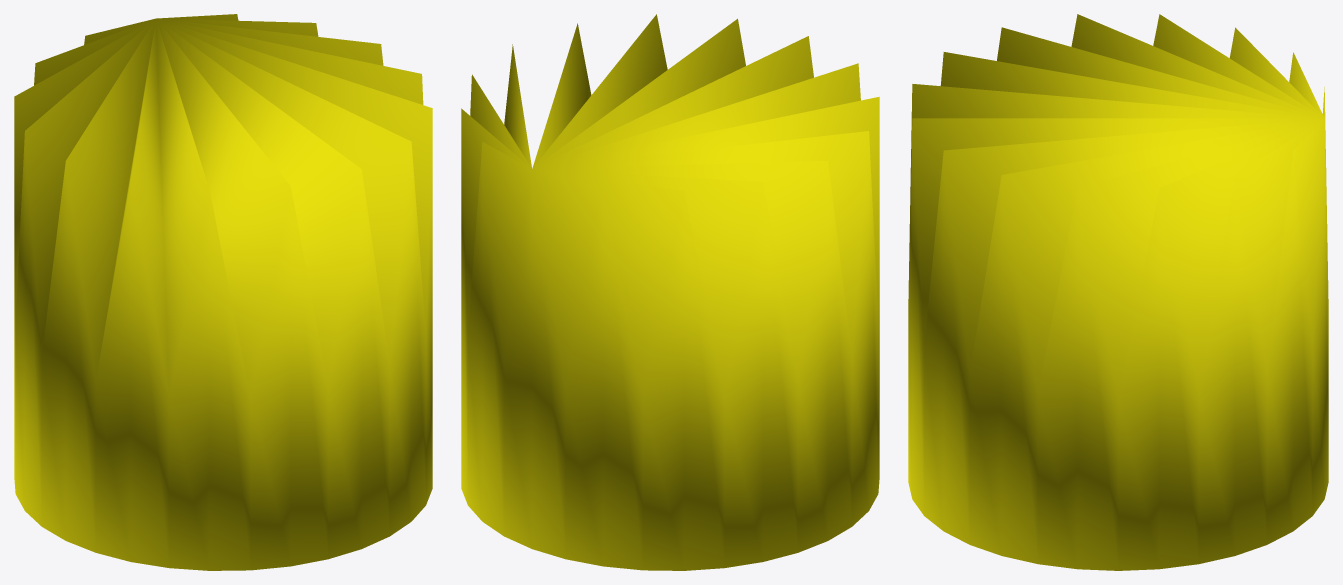
The model's file is Crown.fbx.
The picture shows the model from 3 angles, left to right: view 1: azimuth 30°, elevation 25°; view 2: azimuth 150°, elevation 25°; view 3: azimuth 270°, elevation 25°; orthographic projection.
Visible parts, largest first — view 1: Cylinder; view 2: Cylinder; view 3: Cylinder.
Part boxes in pixels (<box>): Cylinder: <box>14,14,432,570</box>; Cylinder: <box>461,14,879,570</box>; Cylinder: <box>908,14,1328,570</box>.
Bounding box in the file's own units: 200 × 200 × 200.
